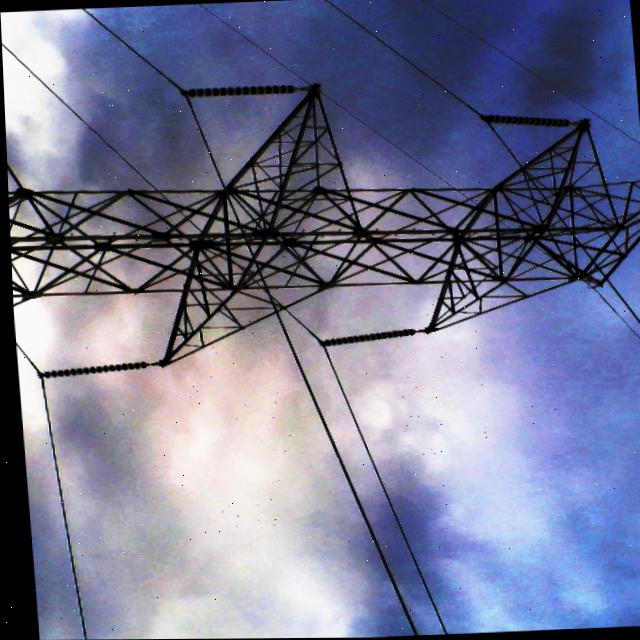poles: (6, 80, 639, 372)
wires: (270, 309, 449, 632), (71, 12, 223, 178), (1, 26, 159, 178), (16, 341, 87, 640), (319, 2, 467, 114), (585, 281, 640, 332)
